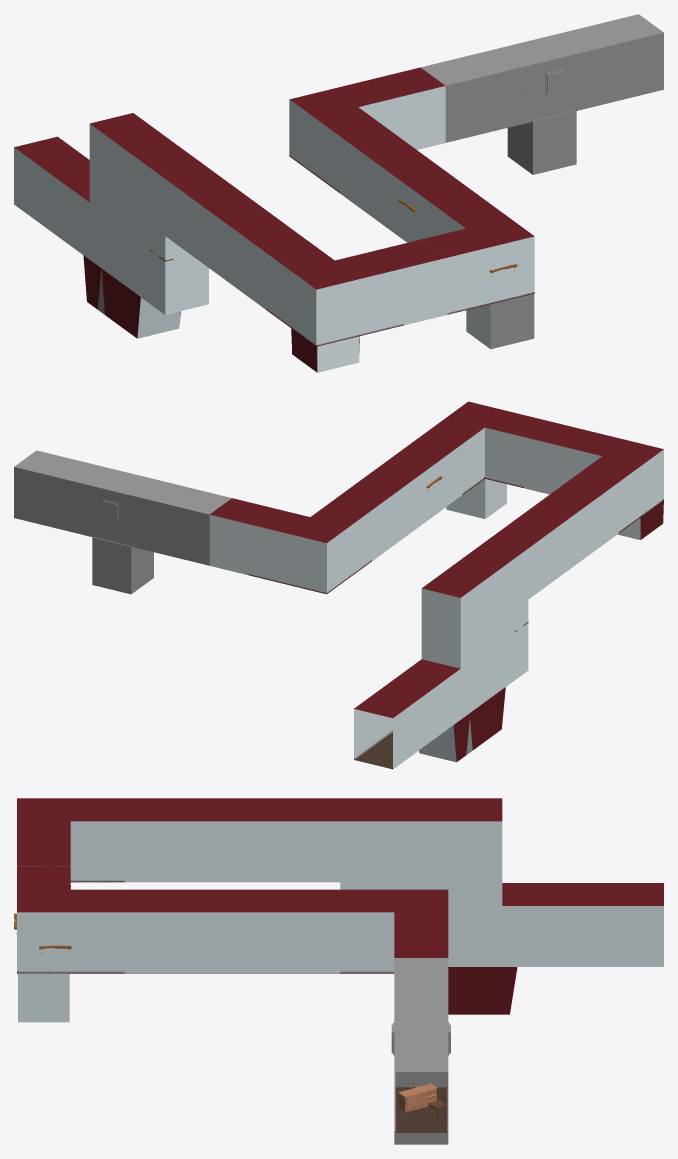
The model's file is jump_and_run_hallway.fbx.
3 renders of one model, top to bottom at view 1: azimuth 30°, elevation 25°; view 2: azimuth 150°, elevation 25°; view 3: azimuth 270°, elevation 25°, orthographic. The views are drawn at different scales.
Visible parts, largest first — view 1: Hallway001, Hallway_Window, Hallway_Corner001, Hallway_Corner001.001, Hallway_Corner002, Hallway001.001; view 2: Hallway001, Hallway_Window, Hallway_Corner001.001, Hallway_Corner001, Hallway_Corner002, Hallway001.001; view 3: Hallway001, Hallway001.001, Hallway_Corner001.001, Hallway_Corner001, Hallway_Corner002, Hallway_Window, Dresser.004.
Part boxes in pixels (box(x1,y1,x2,y2)): Hallway001: box(14, 113, 283, 338); Hallway_Window: box(421, 14, 663, 174); Hallway_Corner001: box(240, 223, 447, 372); Hallway_Corner001.001: box(289, 67, 445, 211); Hallway_Corner002: box(422, 199, 534, 349); Hallway001.001: box(365, 144, 483, 242); Hallway001: box(354, 489, 596, 769); Hallway_Window: box(14, 450, 231, 594); Hallway_Corner001.001: box(209, 484, 394, 594); Hallway_Corner001: box(524, 420, 663, 549); Hallway_Corner002: box(423, 401, 546, 518); Hallway001.001: box(356, 434, 462, 544); Hallway001: box(178, 798, 663, 1014); Hallway001.001: box(124, 889, 286, 973); Hallway_Corner001.001: box(286, 889, 448, 973); Hallway_Corner001: box(17, 798, 178, 882); Hallway_Corner002: box(17, 867, 124, 1022); Hallway_Window: box(391, 958, 450, 1144); Dresser.004: box(398, 1083, 437, 1112).
Size of the model in its own units: 48.01 by 15.99 by 48.21.
